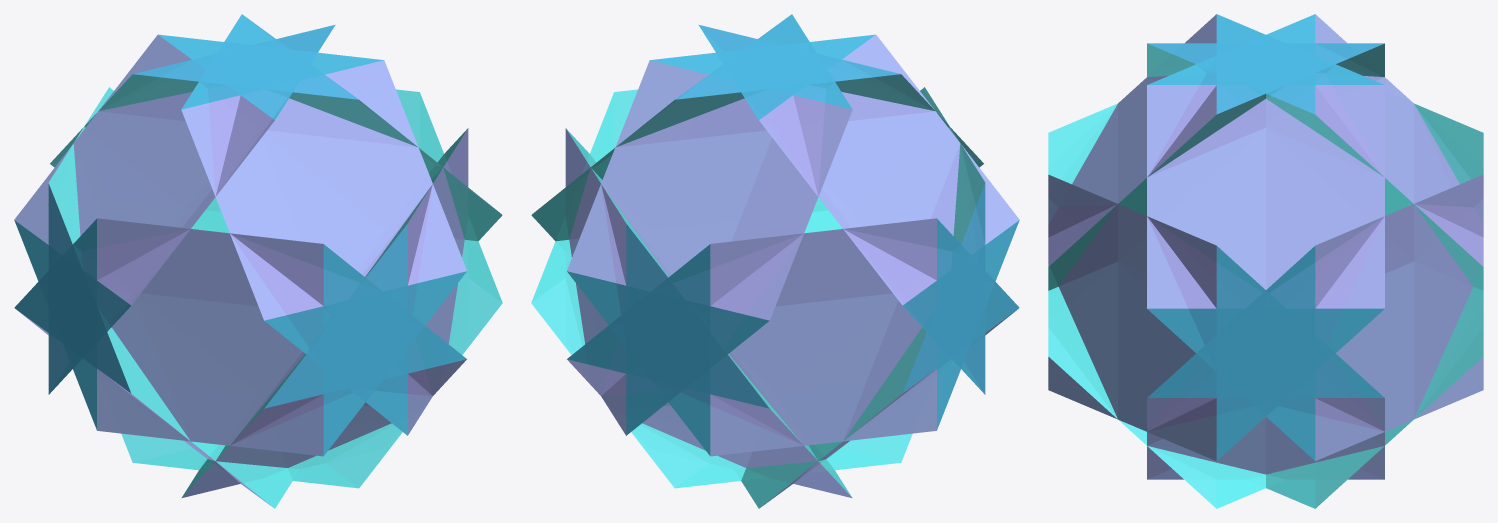
The model's file is GreatTruncatedCuboctahedron.obj.
3 renders of one model, left to right at view 1: azimuth 30°, elevation 25°; view 2: azimuth 150°, elevation 25°; view 3: azimuth 270°, elevation 25°, orthographic.
Size of the model in its own units: 1.83 by 1.83 by 1.83.
